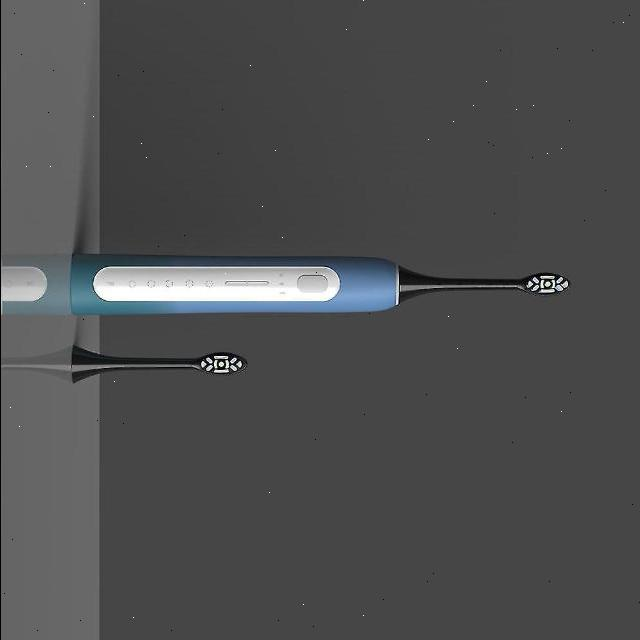toothbrush: (47, 214, 619, 350)
